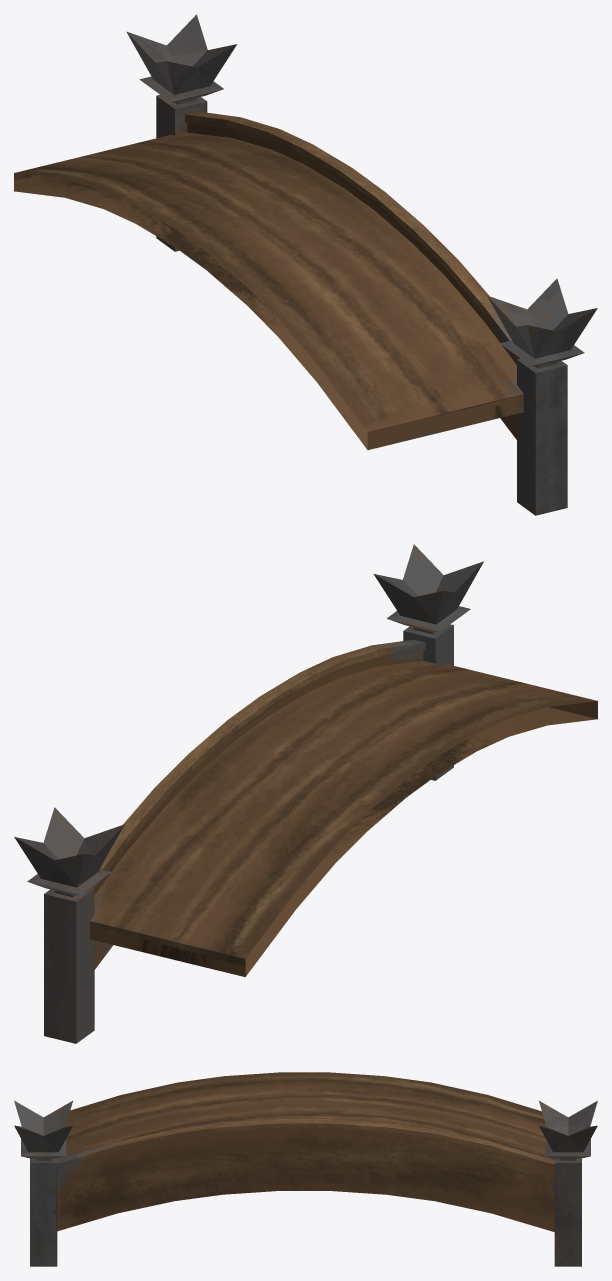
The model's file is bridge.glb.
The picture shows the model from 3 angles, top to bottom: view 1: azimuth 30°, elevation 25°; view 2: azimuth 150°, elevation 25°; view 3: azimuth 270°, elevation 25°; orthographic projection. The views are drawn at different scales.
Visible parts, largest first — view 1: Plane; view 2: Plane; view 3: Plane.
Boxes of the visible parts, <box> form: Plane: <box>14,14,597,515</box>; Plane: <box>14,544,597,1043</box>; Plane: <box>14,1072,597,1266</box>.
Bounding box in the file's own units: 5.35 × 5.01 × 17.93.
1 material, 1 textured.
